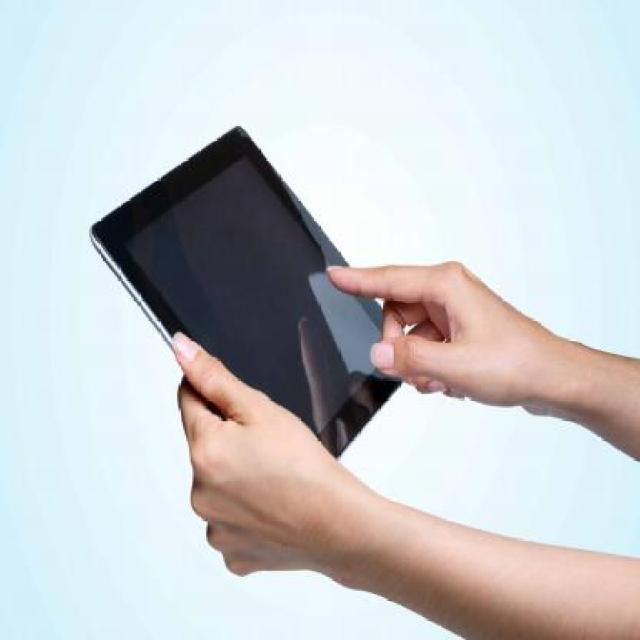tablet: (82, 119, 441, 496)
